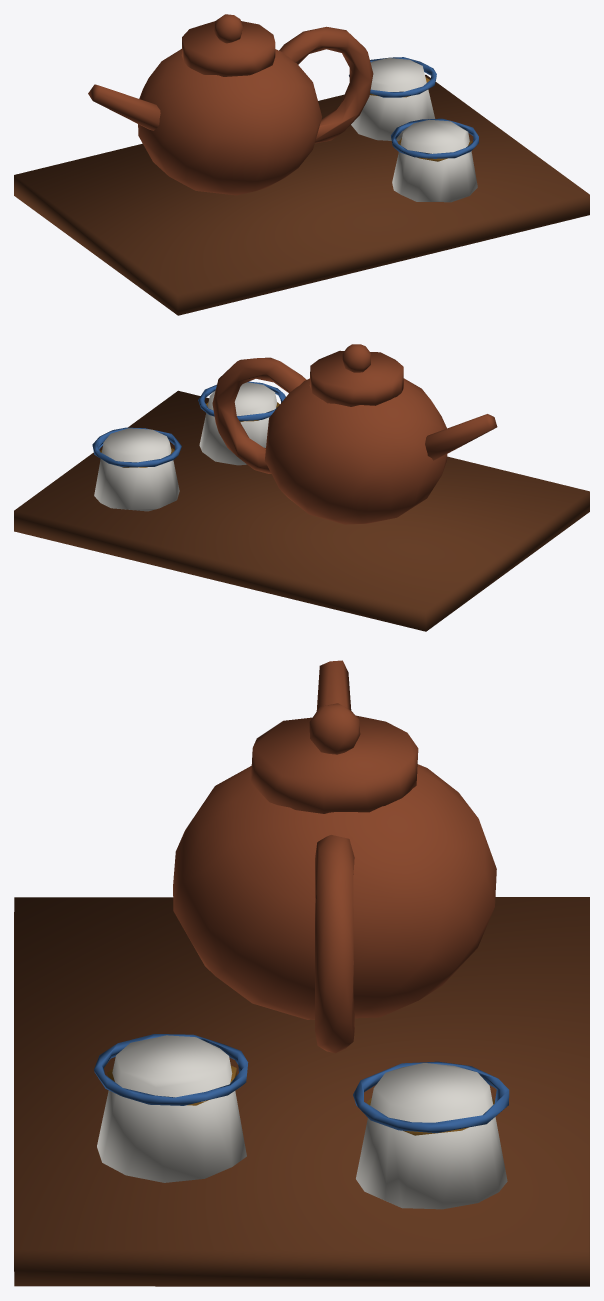
Rendered from am_tra.glb.
3 views of the same model, one above another, from view 1: azimuth 30°, elevation 25°; view 2: azimuth 150°, elevation 25°; view 3: azimuth 270°, elevation 25° (orthographic). The views are drawn at different scales.
Visible parts, largest first — view 1: am_tra; view 2: am_tra; view 3: am_tra.
Boxes of the visible parts, <box> form: am_tra: <box>14,14,589,315</box>; am_tra: <box>14,344,589,631</box>; am_tra: <box>14,660,589,1286</box>.
Bounding box in the file's own units: 0.2575 × 0.1185 × 0.1774.
